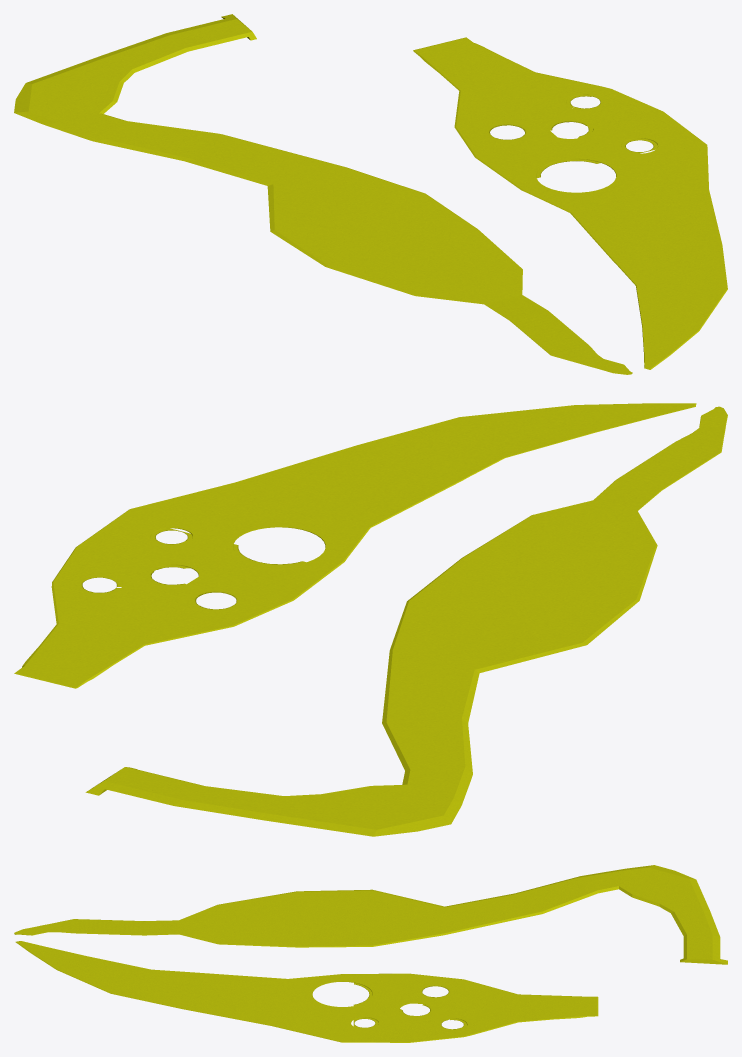
Rendered from SM_Onroad.fbx.
3 views of the same model, one above another, from view 1: azimuth 30°, elevation 25°; view 2: azimuth 150°, elevation 25°; view 3: azimuth 270°, elevation 25° (orthographic). The views are drawn at different scales.
Parts seen in each view (by area): view 1: Onroad; view 2: Onroad; view 3: Onroad.
Part boxes in pixels (x1=…): Onroad: x1=14, y1=14, x2=727, y2=374; Onroad: x1=14, y1=403, x2=727, y2=836; Onroad: x1=14, y1=865, x2=727, y2=1042.
Size of the model in its own units: 4648 by 43.33 by 7832.
